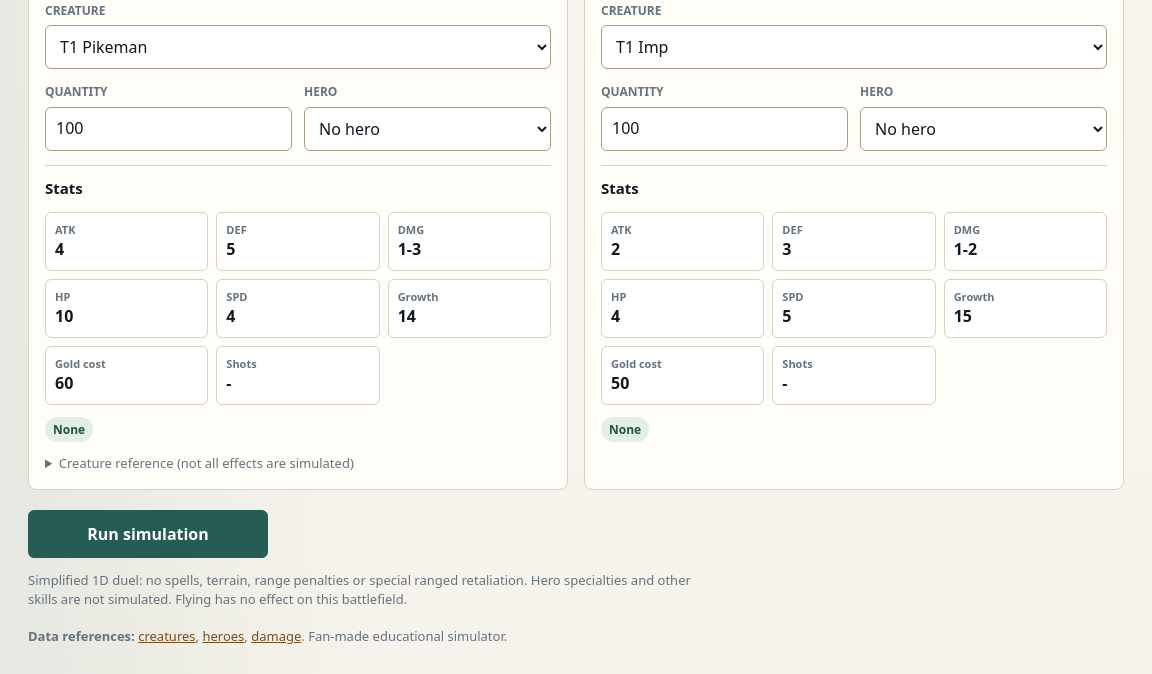
App › renders detailed log entries grouped by round
(page scrolled)
Click the button "Run simulation" at (148,534), box x1=28 y1=510 x2=268 y2=558
(page scrolled)
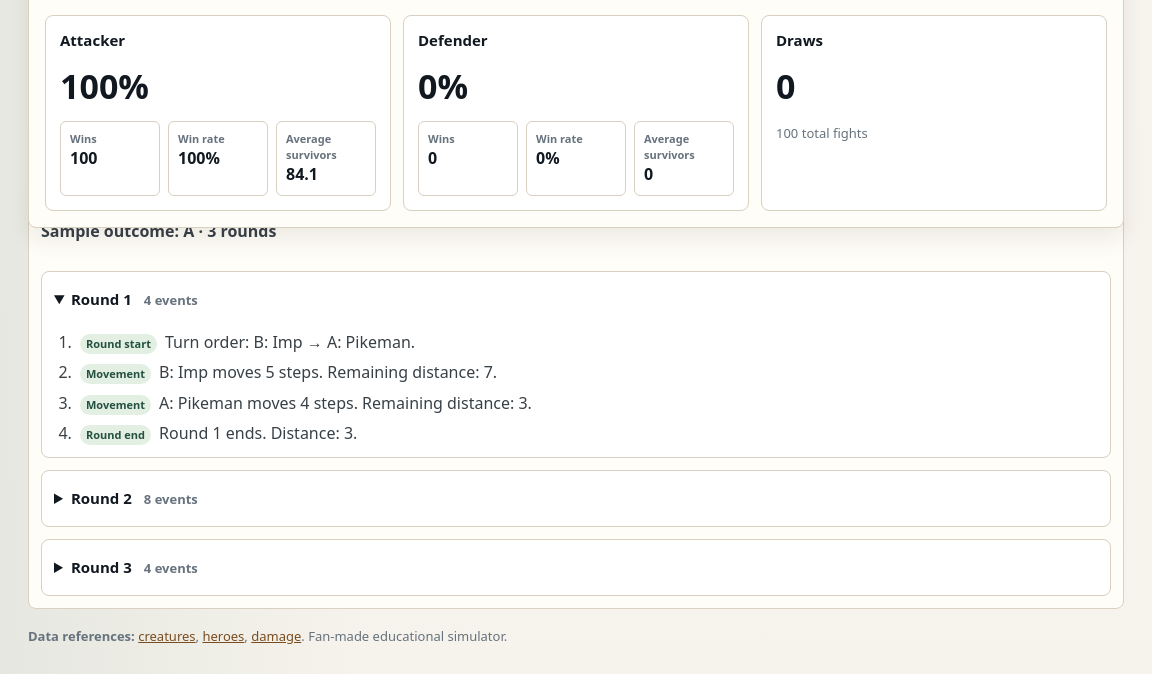
Expected: the heading "Round 1" is shown, x1=71 y1=289 x2=132 y2=309
Expected: the text "Turn order: B: Imp → A: Pikeman." is shown, x1=165 y1=331 x2=415 y2=353
Expected: the text "B: Imp moves 5 steps. Remaining distance: 7." is shown, x1=159 y1=362 x2=497 y2=384
